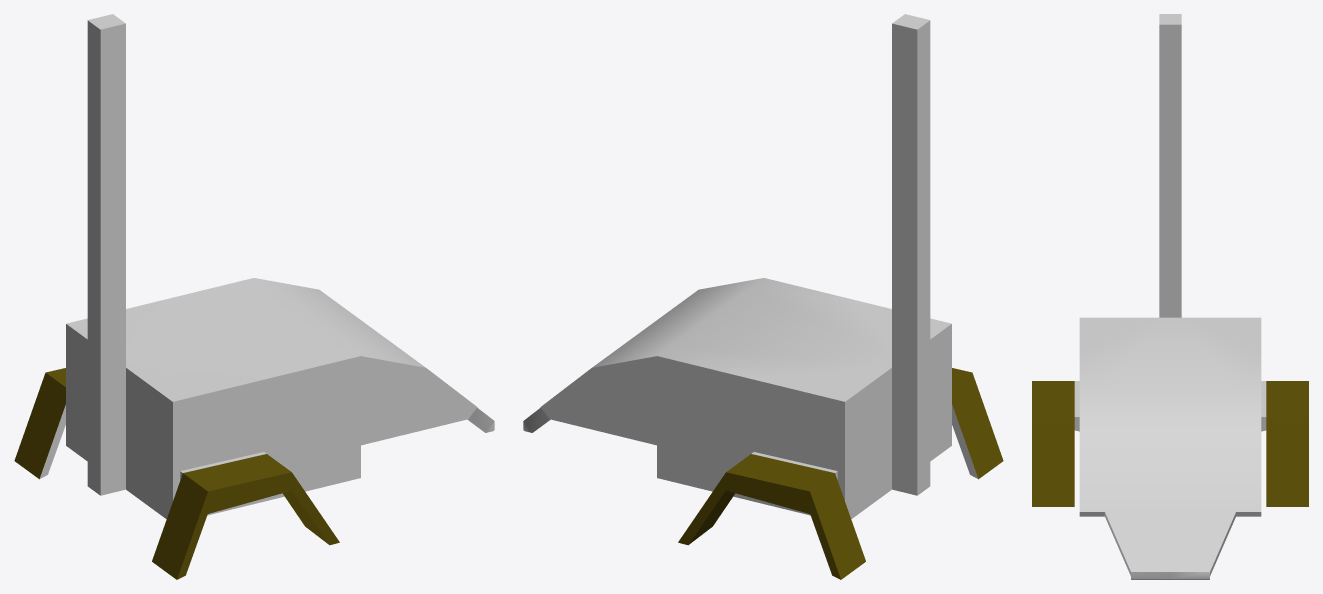
Rendered from igvc_chassis.DAE.
3 views of the same model, side by side, from view 1: azimuth 30°, elevation 25°; view 2: azimuth 150°, elevation 25°; view 3: azimuth 270°, elevation 25° (orthographic). The views are drawn at different scales.
Visible parts, largest first — view 1: Box001, Object002, Object; view 2: Box001, Object002, Object; view 3: Box001, Object.
Boxes of the visible parts, x1,y1,x2,y2 form: Box001: [39, 278, 494, 518]; Object002: [87, 14, 125, 495]; Object: [14, 368, 339, 579]; Box001: [523, 278, 978, 518]; Object002: [892, 14, 930, 495]; Object: [678, 368, 1003, 579]; Box001: [1074, 24, 1266, 579]; Object: [1032, 381, 1308, 506].
Bounding box in the file's own units: 59.48 × 44.39 × 75.08.
